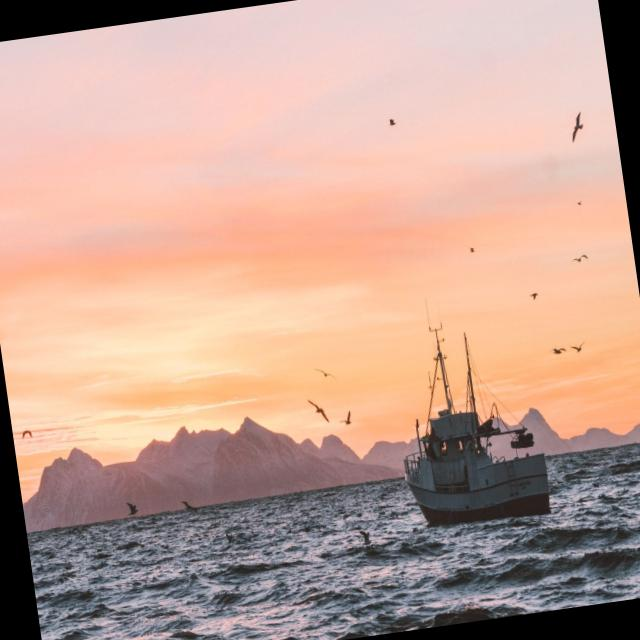boat: (380, 290, 570, 558)
